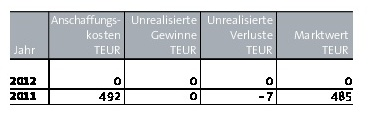table: (0, 0, 370, 118)
